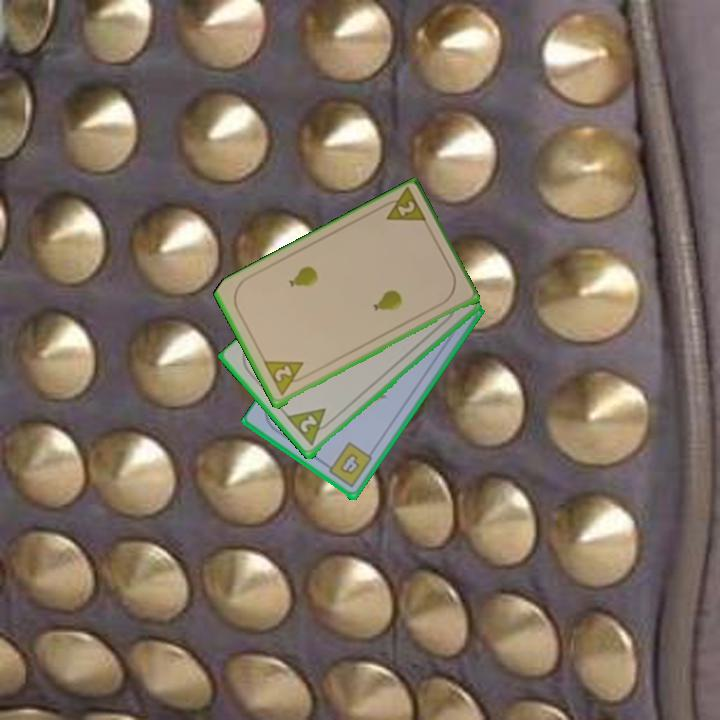2p: (284, 405, 337, 449), (376, 186, 430, 227), (260, 357, 311, 399)
4b: (321, 439, 375, 491)
